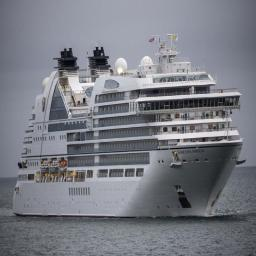cruises: (12, 34, 248, 225)
